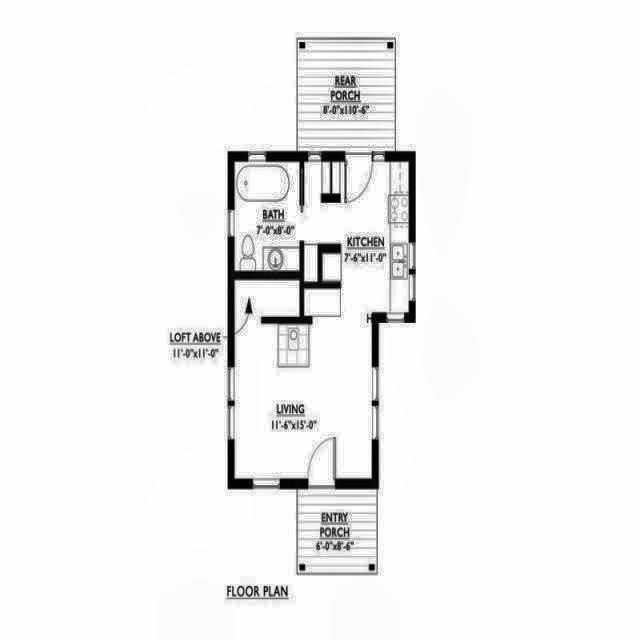room: (234, 161, 409, 478), (235, 163, 299, 271)
